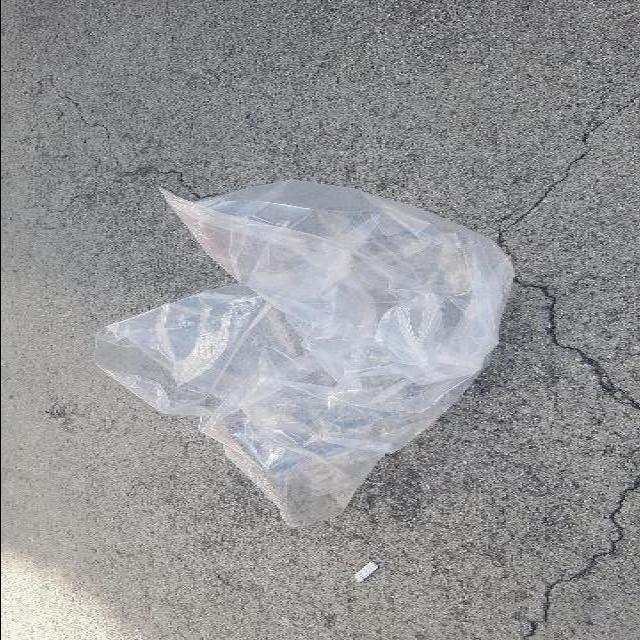plastic bag: (86, 176, 522, 530)
